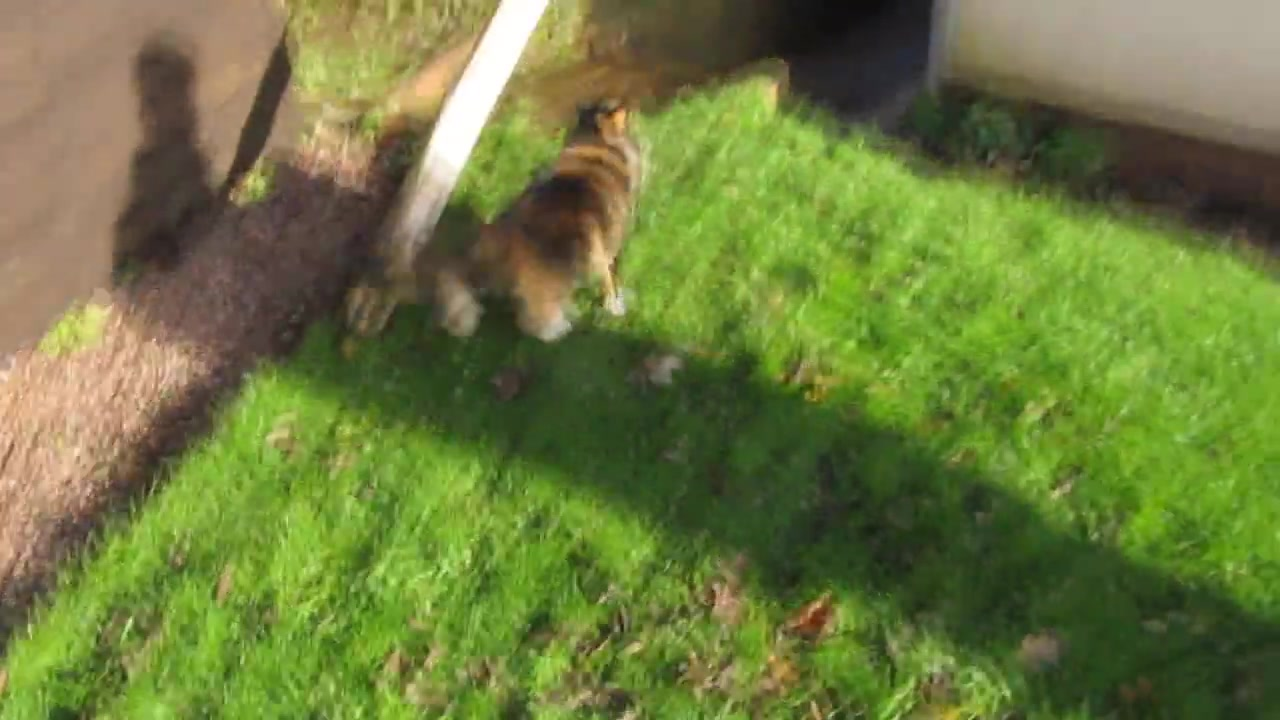cat: (432, 98, 646, 348)
